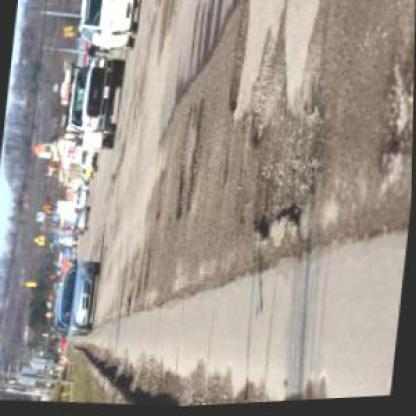pothole: (248, 106, 332, 250), (247, 46, 290, 151), (376, 55, 413, 175), (223, 0, 254, 121), (184, 97, 214, 221), (174, 108, 192, 222), (154, 168, 169, 226)
